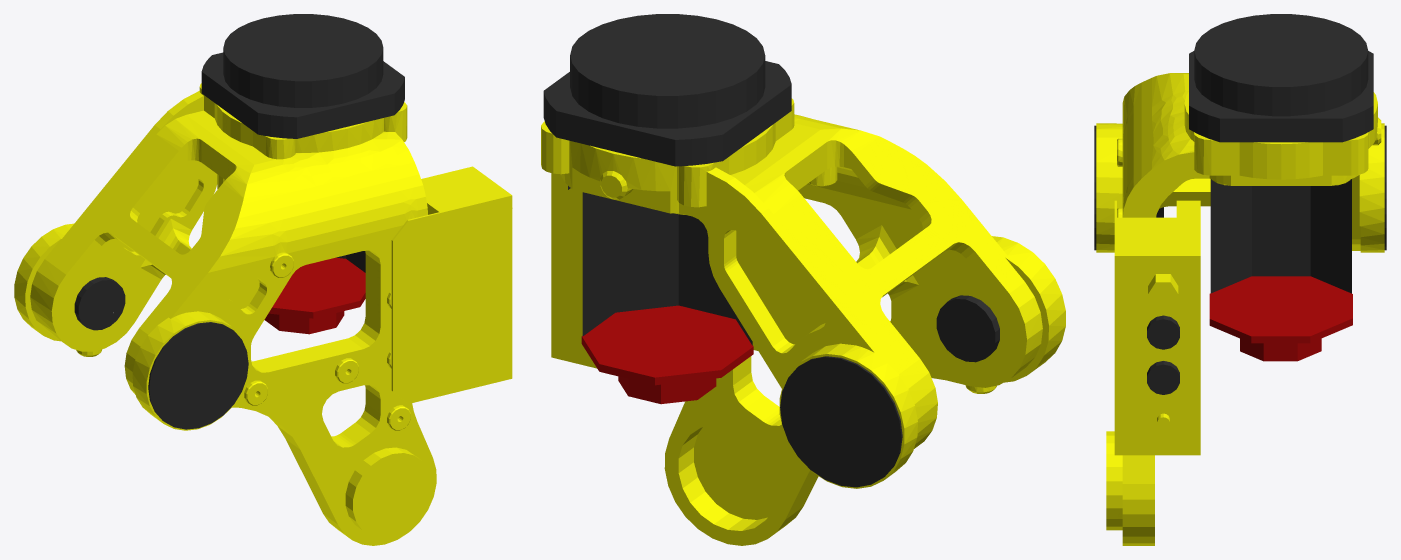
3 renders of one model, left to right at view 1: azimuth 30°, elevation 25°; view 2: azimuth 150°, elevation 25°; view 3: azimuth 270°, elevation 25°, orthographic. The views are drawn at different scales.
Visible parts, largest first — view 1: node; view 2: node; view 3: node.
Part boxes in pixels (<box>): node: <box>14,14,512,545</box>; node: <box>541,14,1065,545</box>; node: <box>1094,14,1386,545</box>.
Size of the model in its own units: 450 by 492 by 269.
